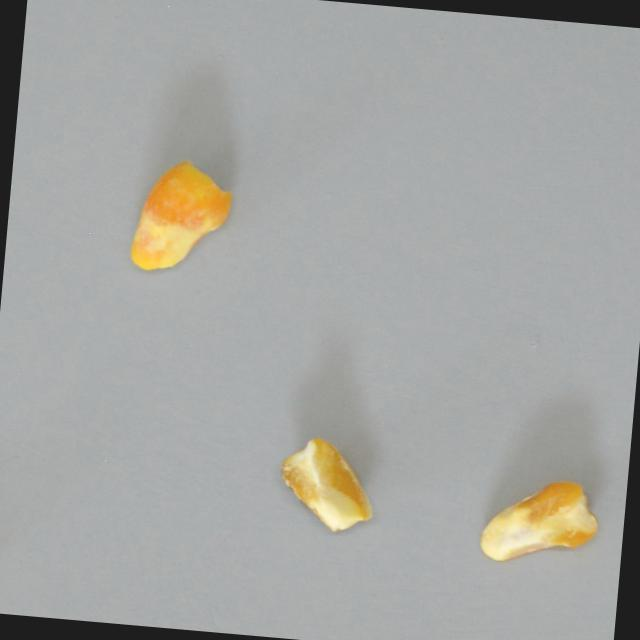pelicula: (126, 153, 236, 275), (477, 474, 602, 569), (274, 434, 379, 534)
